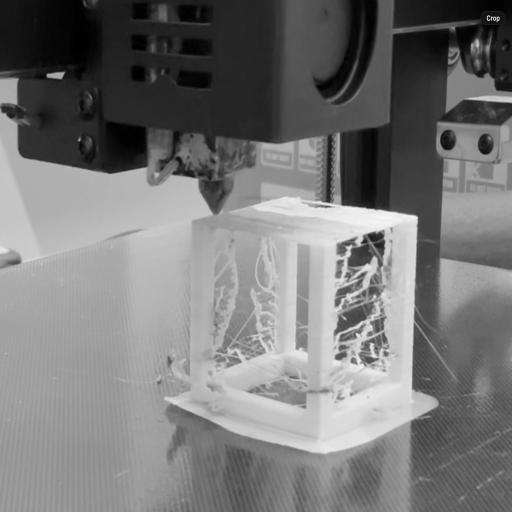spaghetti_and_stringing: (211, 229, 311, 400), (336, 248, 402, 396), (134, 349, 196, 395)
warp: (161, 398, 261, 442), (267, 429, 355, 465)
